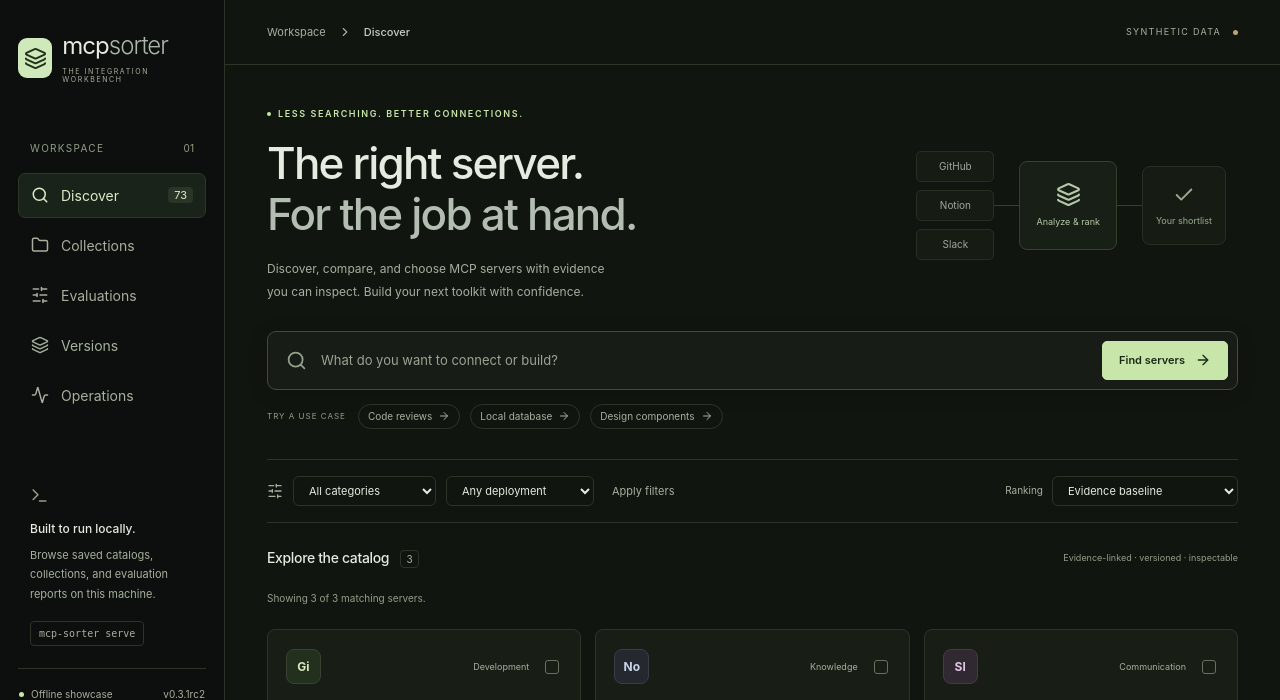
Test: refreshes catalog totals when a refresh job completes
Click the button "Operations": (112, 395) [18,373,206,418]
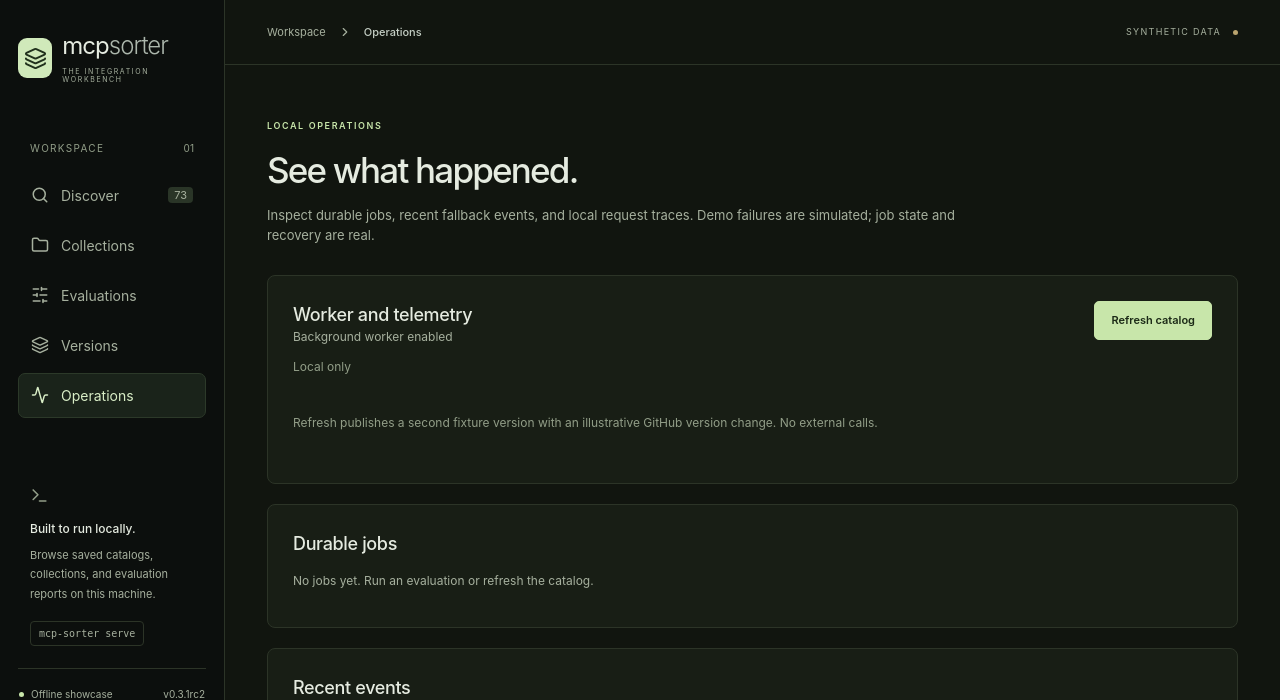
Expected: the button "Refresh catalog" is shown
Click the button "Refresh catalog": (1153, 321) [1094,301,1212,340]
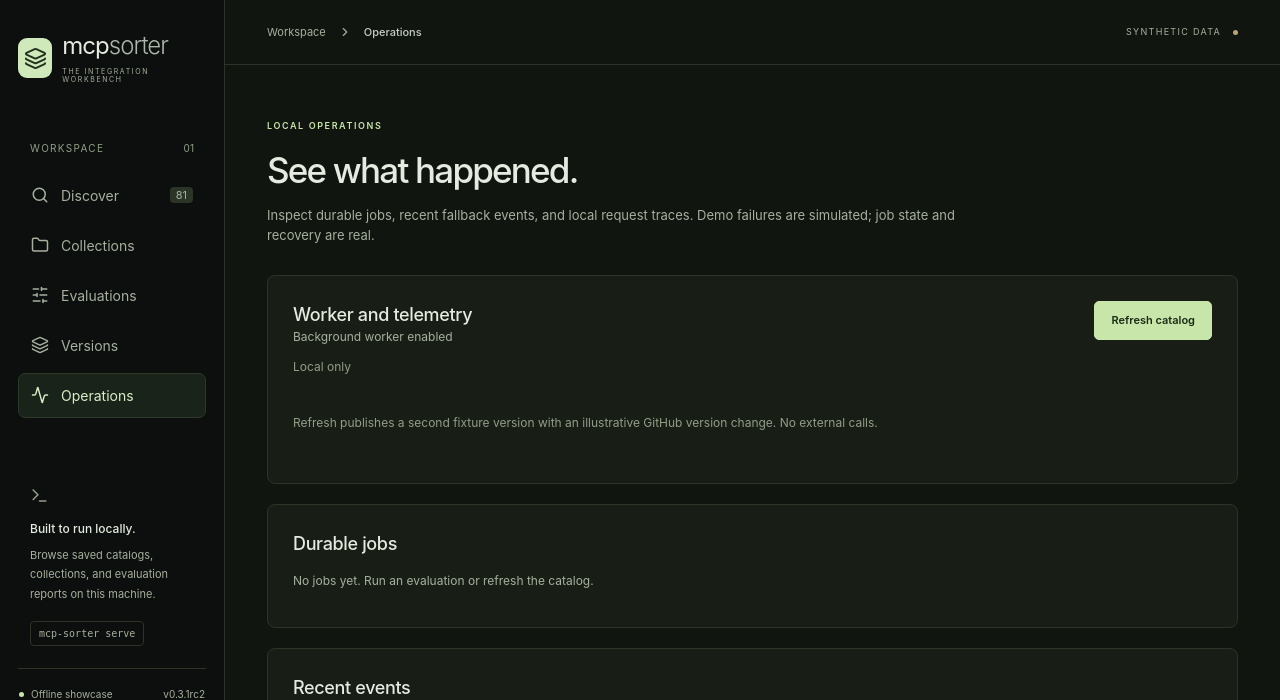
Expected: the text named "Total catalog records" reads "81", [176,188,187,202]
